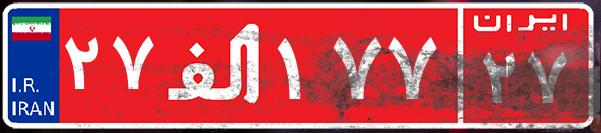1: (273, 28, 330, 110)
2: (57, 26, 110, 107), (475, 38, 525, 113)
7: (385, 28, 445, 110), (330, 28, 385, 110), (110, 28, 158, 105), (525, 38, 570, 115)
الف: (158, 15, 273, 115)
